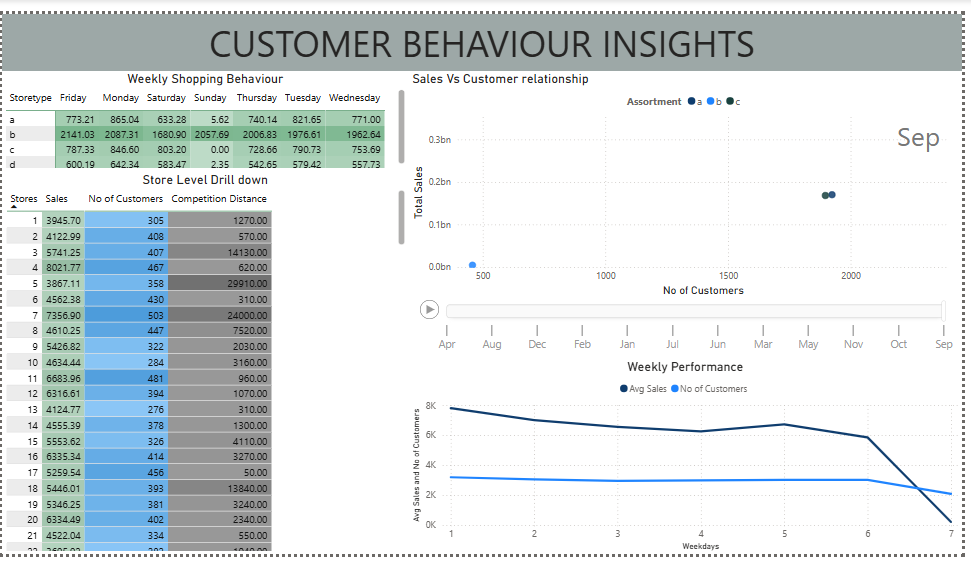

What the dashboard file says about the page in this screenshot:
{"tool":"powerbi","page":{"name":"Page 3","canvas":[1280,720],"ordinal":2},"visuals":[{"type":"textbox","box":[0,0,1280,76],"z":0},{"type":"pivotTable","title":"Weekly Shopping Behaviour","fields":{"Rows":["Stores.storetype"],"Columns":["Dates.DayOfWeek"],"Values":["Avg(Sales.customers)"]},"box":[0,76,542,134],"z":1000},{"type":"scatterChart","title":"Sales Vs Customer relationship","fields":{"X":["Count(Sales.customers)"],"Y":["Sum(Sales.sales)"],"Play":["Dates.Month"],"Series":["Stores.assortment"]},"box":[542,76,738,384],"z":2000},{"type":"lineChart","title":"Weekly Performance ","fields":{"Category":["Dates.DayOfWeekNum"],"Y":["Avg(Sales.sales)","Count(Sales.customers)"]},"box":[542,460,738,260],"z":3000},{"type":"tableEx","title":"Store Level Drill down","fields":{"Values":["Stores.store","Avg(Sales.sales)","Count(Sales.customers)","Stores.competitiondistance"]},"box":[0,210,542,510],"z":4000}]}

Visuals, with their boxes on the page's 1280x720 design canvas (x1, y1, x2, y2). These are canvas units, not pixel positions in the 971x569 screenshot, which may show the page scaled, cropped or inside an application window:
textbox: detection(0, 0, 1280, 76)
"Weekly Shopping Behaviour" pivotTable: detection(0, 76, 542, 210)
"Sales Vs Customer relationship" scatterChart: detection(542, 76, 1280, 460)
"Weekly Performance " lineChart: detection(542, 460, 1280, 720)
"Store Level Drill down" tableEx: detection(0, 210, 542, 720)
